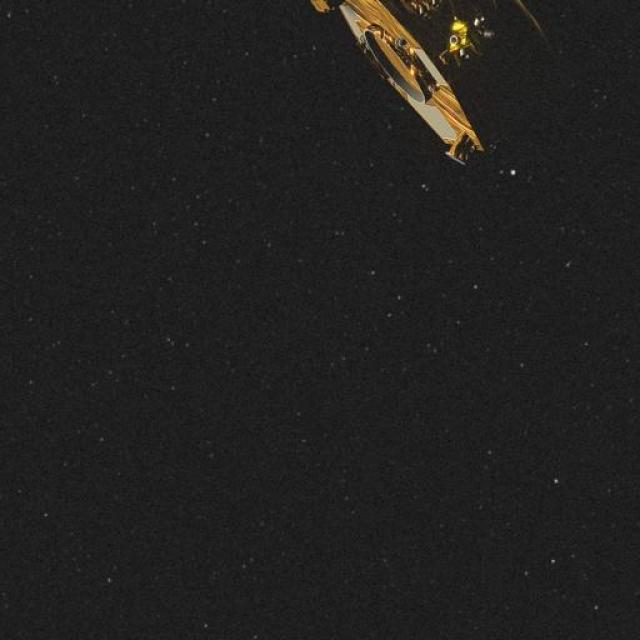lisa_pathfinder: (284, 0, 640, 193)
